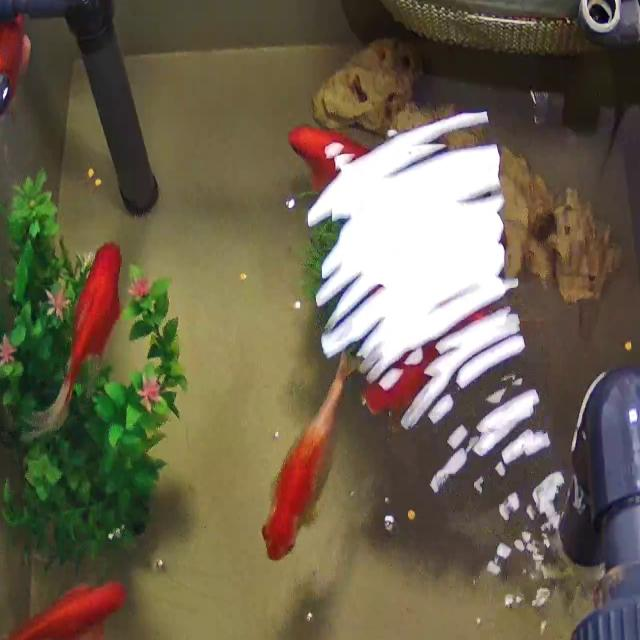fish: (254, 357, 348, 567), (47, 239, 139, 436), (0, 573, 138, 640), (288, 121, 354, 197), (0, 12, 26, 142)
